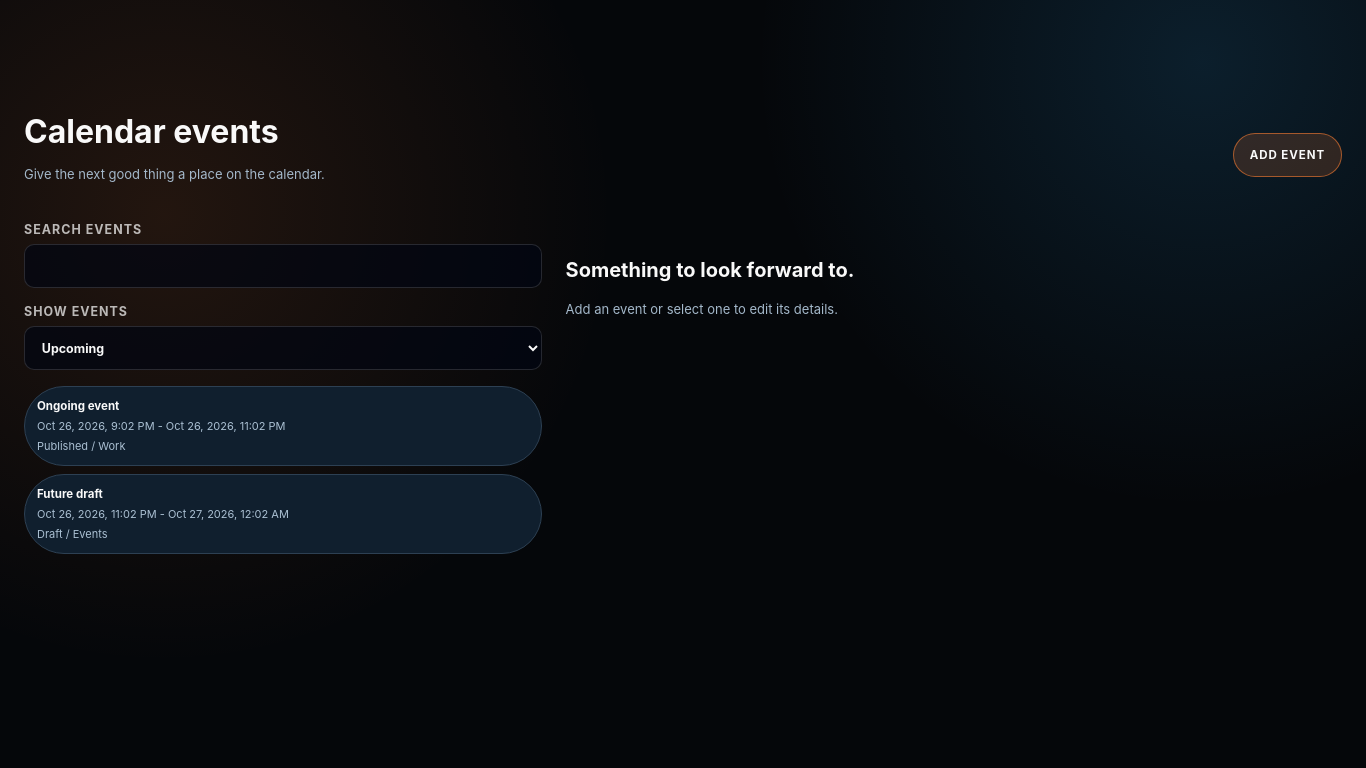
shows upcoming events by default and can reveal past events
Expected: the button "Ongoing event" is shown, [24, 386, 542, 466]
Expected: the button "Future draft" is shown, [24, 474, 542, 554]
Select "All events" in the dropdown labelled "Show events" at (283,348), box [24, 326, 542, 370]
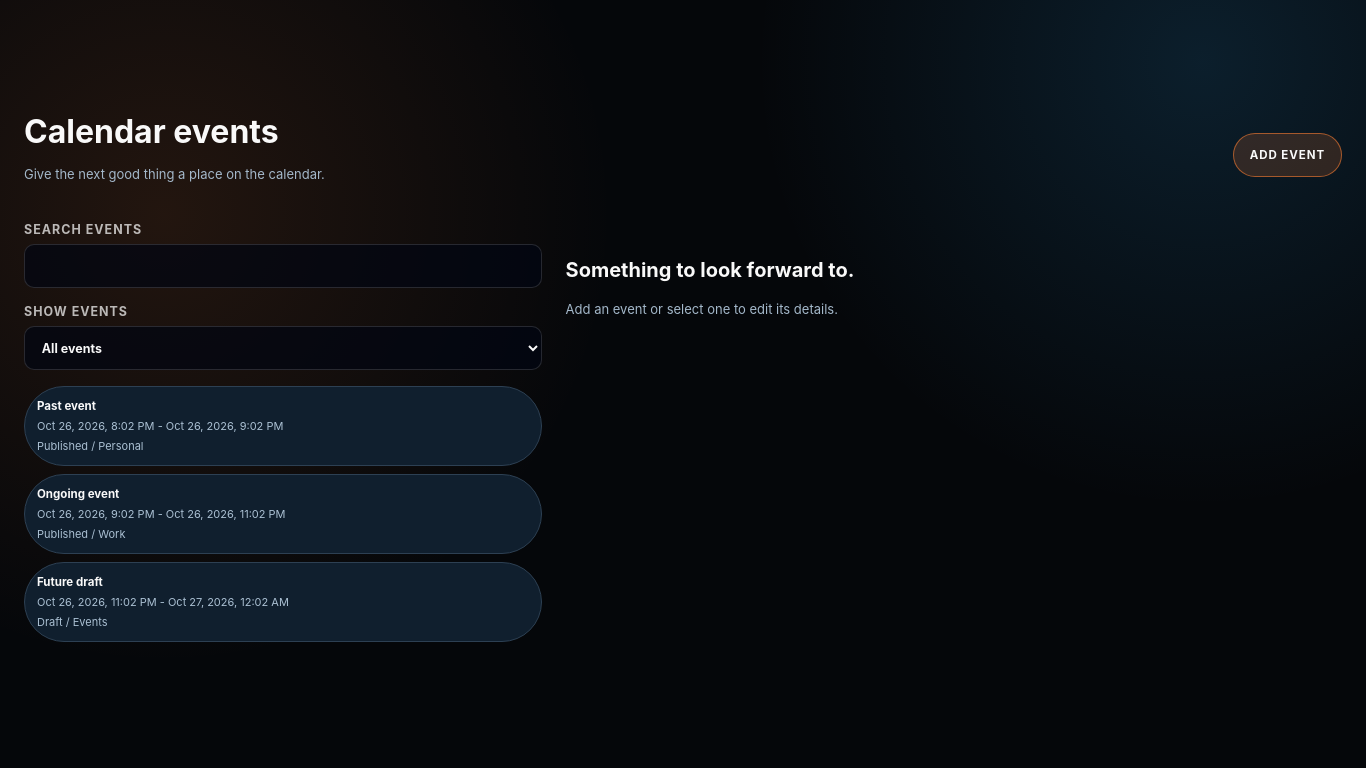
Expected: the button "Past event" is shown, [24, 386, 542, 466]
